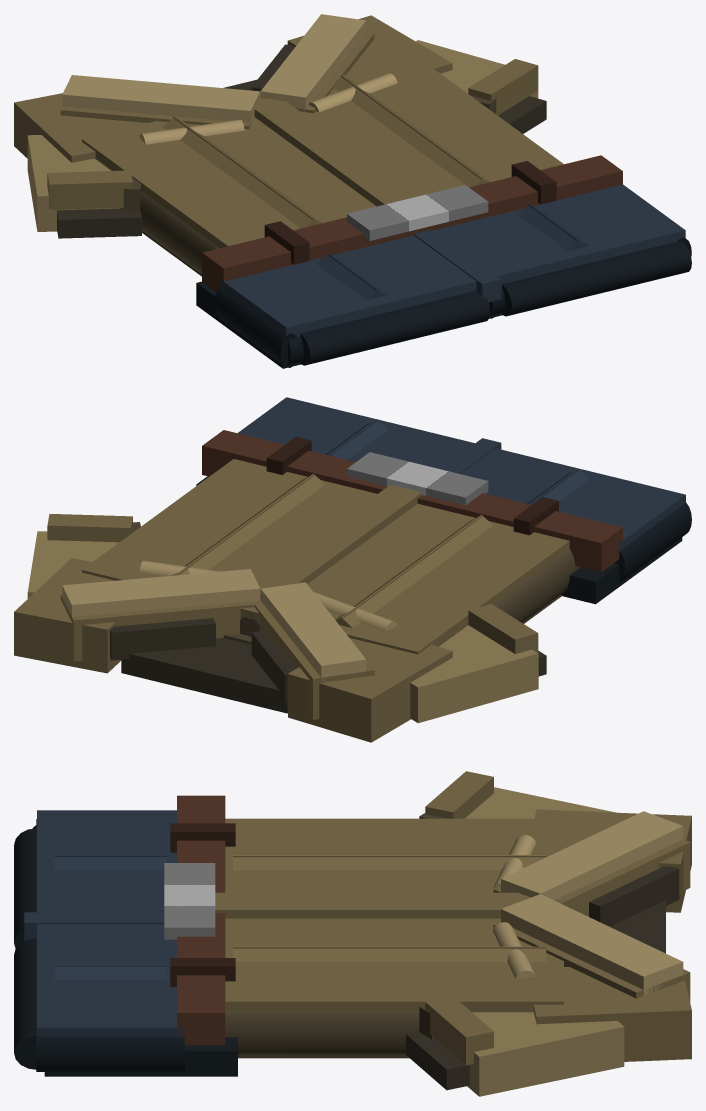
File: CMU3DAU14CivilianWorkwearYellowWorldCloud.glb
The picture shows the model from 3 angles, top to bottom: view 1: azimuth 30°, elevation 25°; view 2: azimuth 150°, elevation 25°; view 3: azimuth 270°, elevation 25°; orthographic projection. The views are drawn at different scales.
Parts seen in each view (by area): view 1: left shirt front continuous cloth panel, right shirt front continuous cloth panel, left folded trouser panel continuous cloth panel, right folded trouser panel continuous cloth panel, continuous attached waist belt, left turned collar face, right turned trouser hem, left turned trouser hem, continuous center button placket, right turned collar face, original small waist clasp, left continuous shoulder cloth (+24 smaller); view 2: left shirt front continuous cloth panel, right shirt front continuous cloth panel, continuous attached waist belt, left continuous shoulder cloth, left folded trouser panel continuous cloth panel, left sloping sleeve cloth, right folded trouser panel continuous cloth panel, recessed inner neck facing, right turned collar face, right continuous shoulder cloth, left turned collar face, continuous center button placket (+22 smaller); view 3: right shirt front continuous cloth panel, left shirt front continuous cloth panel, right folded trouser panel continuous cloth panel, left folded trouser panel continuous cloth panel, right sloping sleeve cloth, right shirt front right turned edge, right continuous shoulder cloth, continuous center button placket, continuous attached waist belt, right turned collar face, left turned collar face, right folded trouser panel right turned edge (+25 smaller).
Boxes of the visible parts, left/top/right/bottom form: left shirt front continuous cloth panel: left=82, top=117, right=376, bottom=247; right shirt front continuous cloth panel: left=300, top=57, right=563, bottom=196; left folded trouser panel continuous cloth panel: left=220, top=235, right=476, bottom=363; right folded trouser panel continuous cloth panel: left=434, top=184, right=685, bottom=314; continuous attached waist belt: left=202, top=155, right=622, bottom=291; left turned collar face: left=62, top=75, right=260, bottom=124; right turned trouser hem: left=501, top=241, right=691, bottom=316; left turned trouser hem: left=299, top=291, right=490, bottom=365; continuous center button placket: left=254, top=98, right=416, bottom=206; right turned collar face: left=260, top=14, right=366, bottom=111; original small waist clasp: left=347, top=185, right=488, bottom=240; left continuous shoulder cloth: left=14, top=93, right=146, bottom=162; left shirt front continuous cloth panel: left=250, top=503, right=569, bottom=654; right shirt front continuous cloth panel: left=82, top=459, right=377, bottom=619; continuous attached waist belt: left=202, top=430, right=622, bottom=572; left continuous shoulder cloth: left=288, top=638, right=452, bottom=742; left folded trouser panel continuous cloth panel: left=460, top=448, right=685, bottom=550; left sloping sleeve cloth: left=410, top=625, right=538, bottom=723; right folded trouser panel continuous cloth panel: left=237, top=397, right=474, bottom=468; recessed inner neck facing: left=121, top=638, right=287, bottom=713; right turned collar face: left=62, top=569, right=260, bottom=616; right continuous shoulder cloth: left=14, top=558, right=121, bottom=673; left turned collar face: left=260, top=582, right=366, bottom=682; continuous center button placket: left=257, top=484, right=421, bottom=600; right shirt front continuous cloth panel: left=225, top=918, right=563, bottom=1010; left shirt front continuous cloth panel: left=225, top=818, right=563, bottom=892; right folded trouser panel continuous cloth panel: left=37, top=924, right=184, bottom=1036; left folded trouser panel continuous cloth panel: left=37, top=810, right=176, bottom=912; right sloping sleeve cloth: left=467, top=1012, right=624, bottom=1096; right shirt front right turned edge: left=225, top=1010, right=533, bottom=1054; right continuous shoulder cloth: left=533, top=967, right=691, bottom=1061; continuous center button placket: left=215, top=892, right=530, bottom=918; continuous attached waist belt: left=177, top=795, right=225, bottom=1045; right turned collar face: left=501, top=894, right=683, bottom=995; left turned collar face: left=501, top=811, right=683, bottom=900; right folded trouser panel right turned edge: left=36, top=1032, right=184, bottom=1071.
Bounding box in the file's own units: 0.3961 × 0.05 × 0.4159.
10 materials, 1 textured.
